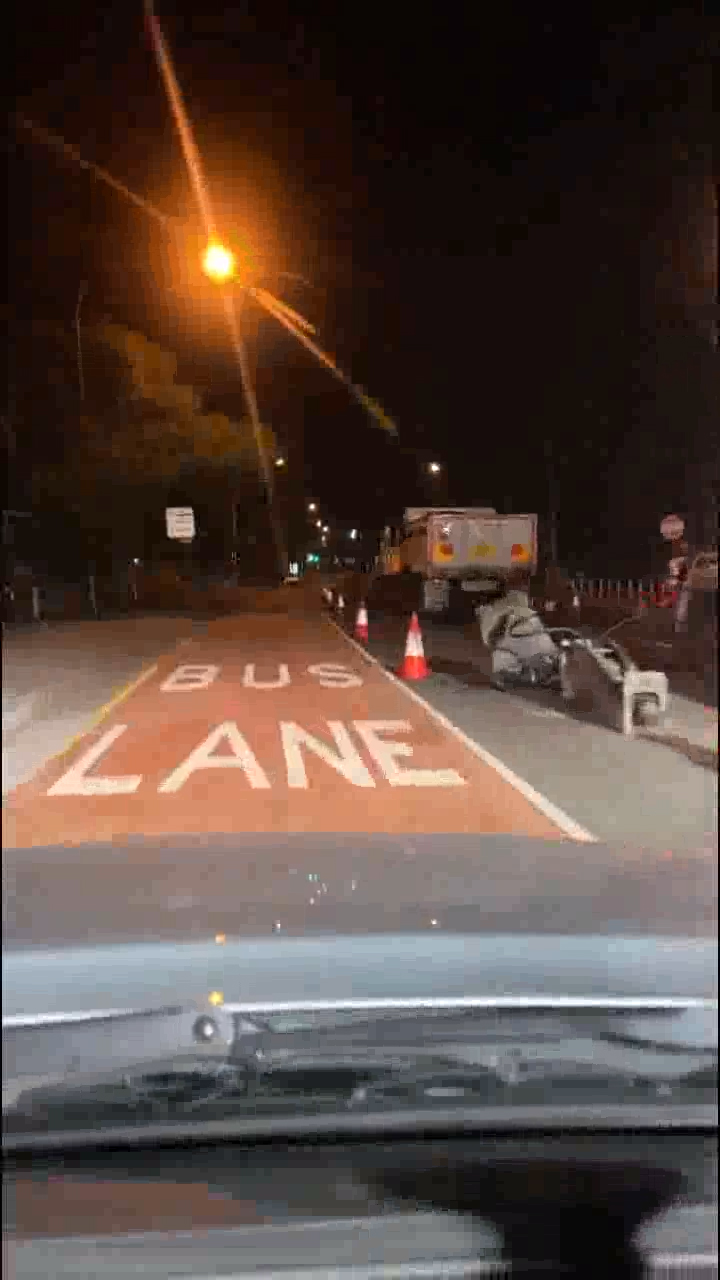road cone: (391, 605, 439, 690), (341, 590, 383, 650)
truck: (396, 501, 544, 600)
